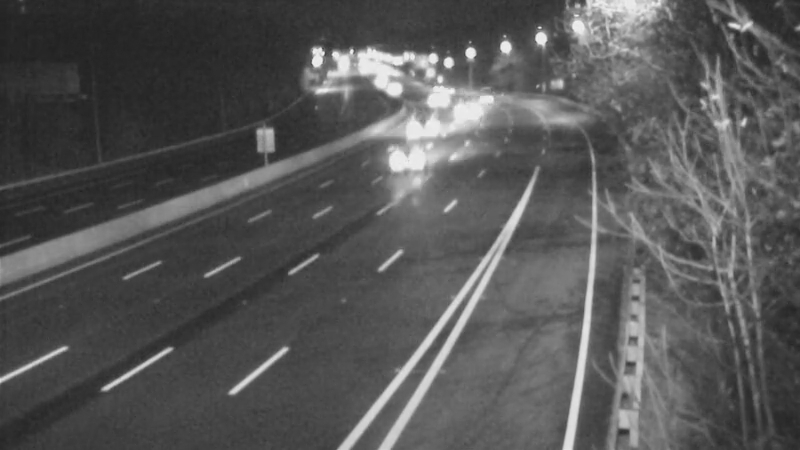vehicle: (365, 126, 445, 206), (363, 63, 413, 113), (461, 71, 511, 121), (407, 72, 457, 122), (439, 85, 489, 135), (398, 99, 448, 149)
